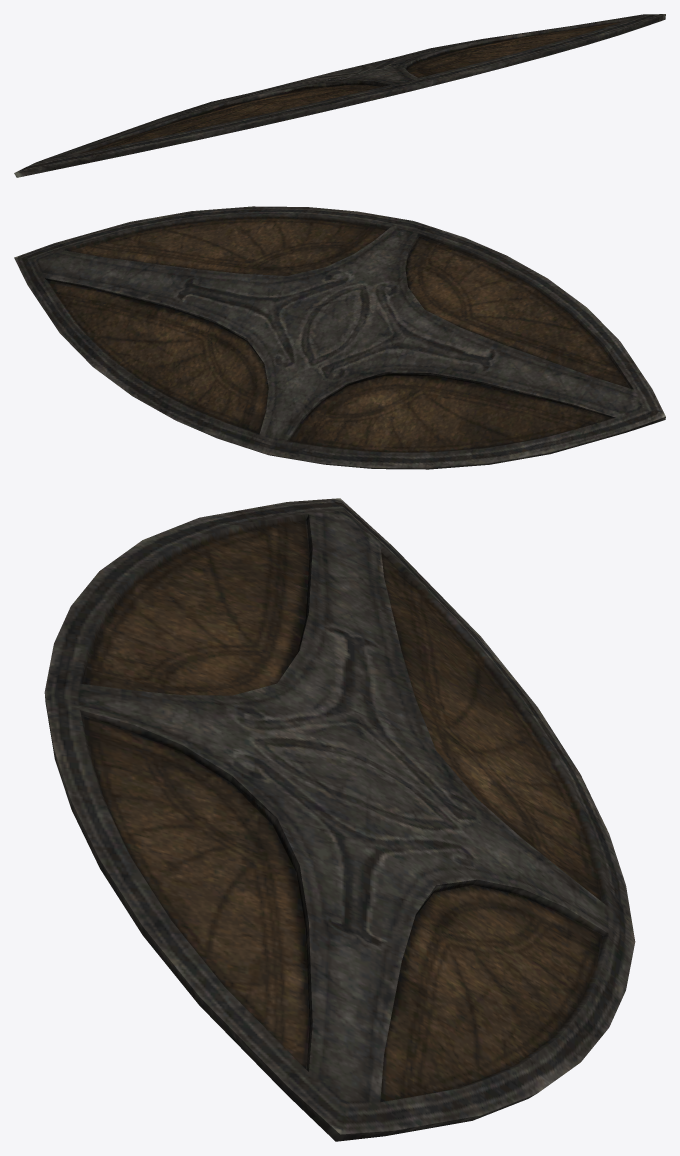
Rendered from tarcza8.glb.
3 renders of one model, top to bottom at view 1: azimuth 30°, elevation 25°; view 2: azimuth 150°, elevation 25°; view 3: azimuth 270°, elevation 25°, orthographic. The views are drawn at different scales.
Visible parts, largest first — view 1: zengin; view 2: zengin; view 3: zengin.
Part boxes in pixels (<box>): zengin: <box>14,14,665,177</box>; zengin: <box>14,206,665,469</box>; zengin: <box>44,498,635,1141</box>.
Size of the model in its own units: 0.9101 by 0.1707 by 0.357.
1 material, 1 textured.
